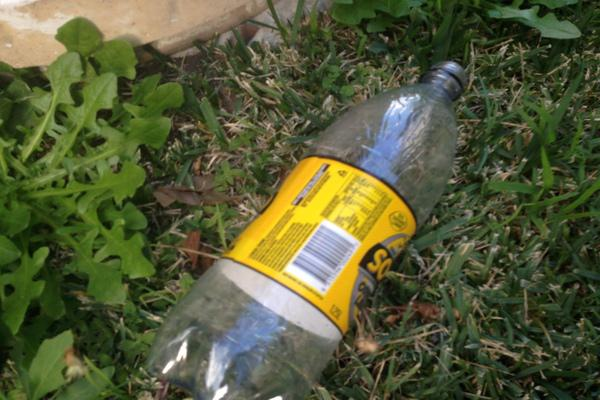Plastic Bottle: (147, 61, 469, 400)
